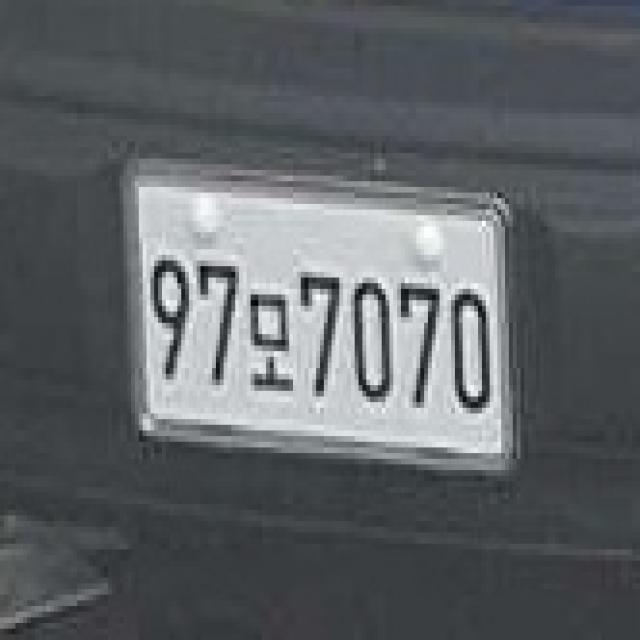0: (450, 279, 498, 419), (351, 272, 395, 406)
7: (294, 260, 342, 400), (398, 270, 443, 410), (195, 254, 241, 388)
9: (146, 247, 194, 389)
license_plate: (134, 176, 510, 465)
mo: (246, 281, 294, 401)
